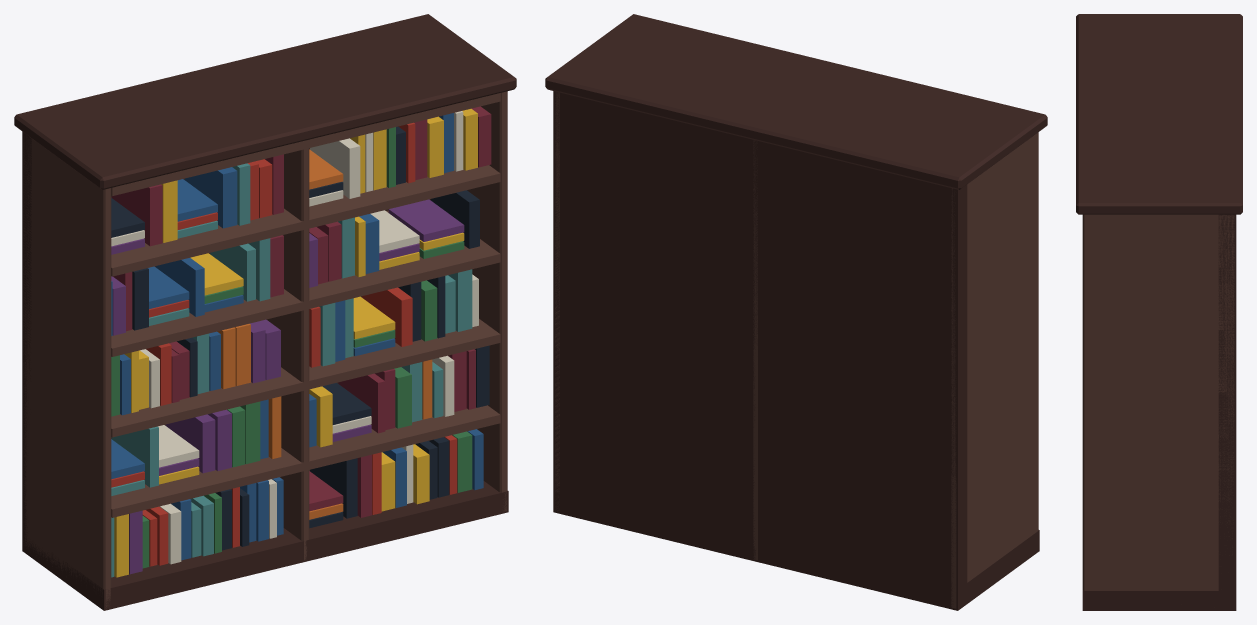
Rendered from bookshelf.glb.
3 renders of one model, left to right at view 1: azimuth 30°, elevation 25°; view 2: azimuth 150°, elevation 25°; view 3: azimuth 270°, elevation 25°, orthographic. The views are drawn at different scales.
Parts seen in each view (by area): view 1: bookshelf; view 2: bookshelf; view 3: bookshelf.
Boxes of the visible parts, bbox=[...] form: bookshelf: bbox=[14, 14, 516, 610]; bookshelf: bbox=[545, 14, 1047, 610]; bookshelf: bbox=[1076, 14, 1242, 610].
Size of the model in its own units: 2.06 by 2.06 by 0.76.
